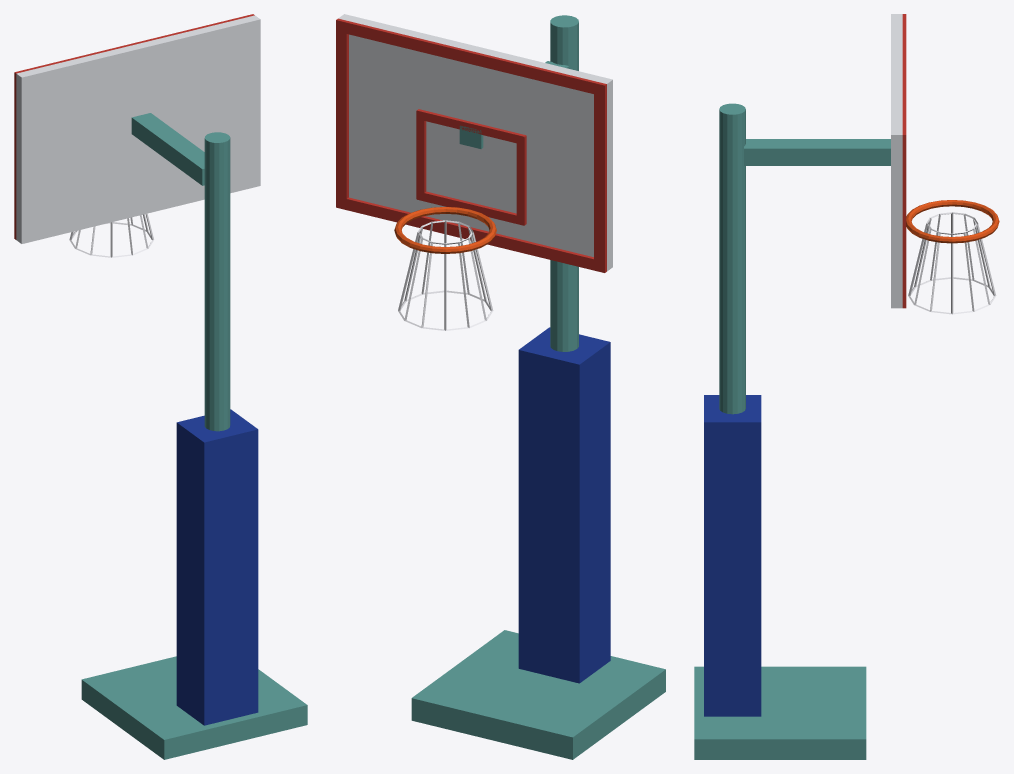
File: SM_BasketballHoop_Realistic.obj
3 views of the same model, side by side, from view 1: azimuth 30°, elevation 25°; view 2: azimuth 150°, elevation 25°; view 3: azimuth 270°, elevation 25° (orthographic). The views are drawn at different scales.
Parts seen in each view (by area): view 1: HoopBoard, HoopPad, HoopPole, HoopNet; view 2: HoopBoard, HoopPad, HoopPole, HoopNet, HoopRim; view 3: HoopPole, HoopPad, HoopBoard, HoopNet, HoopRim.
Boxes of the visible parts, box(x1,y1,x2,y2) form: HoopBoard: box(14, 14, 260, 243); HoopPad: box(176, 409, 258, 725); HoopPole: box(81, 113, 307, 759); HoopNet: box(69, 213, 153, 257); HoopBoard: box(336, 14, 612, 272); HoopPad: box(518, 327, 610, 683); HoopPole: box(411, 15, 665, 759); HoopNet: box(398, 220, 493, 330); HoopRim: box(394, 207, 496, 253); HoopPole: box(694, 103, 890, 759); HoopPad: box(704, 395, 761, 716); HoopBoard: box(891, 14, 906, 308); HoopNet: box(908, 212, 996, 314); HoopRim: box(906, 200, 999, 243).
Bounding box in the file's own units: 1.5 × 3.75 × 1.6.
